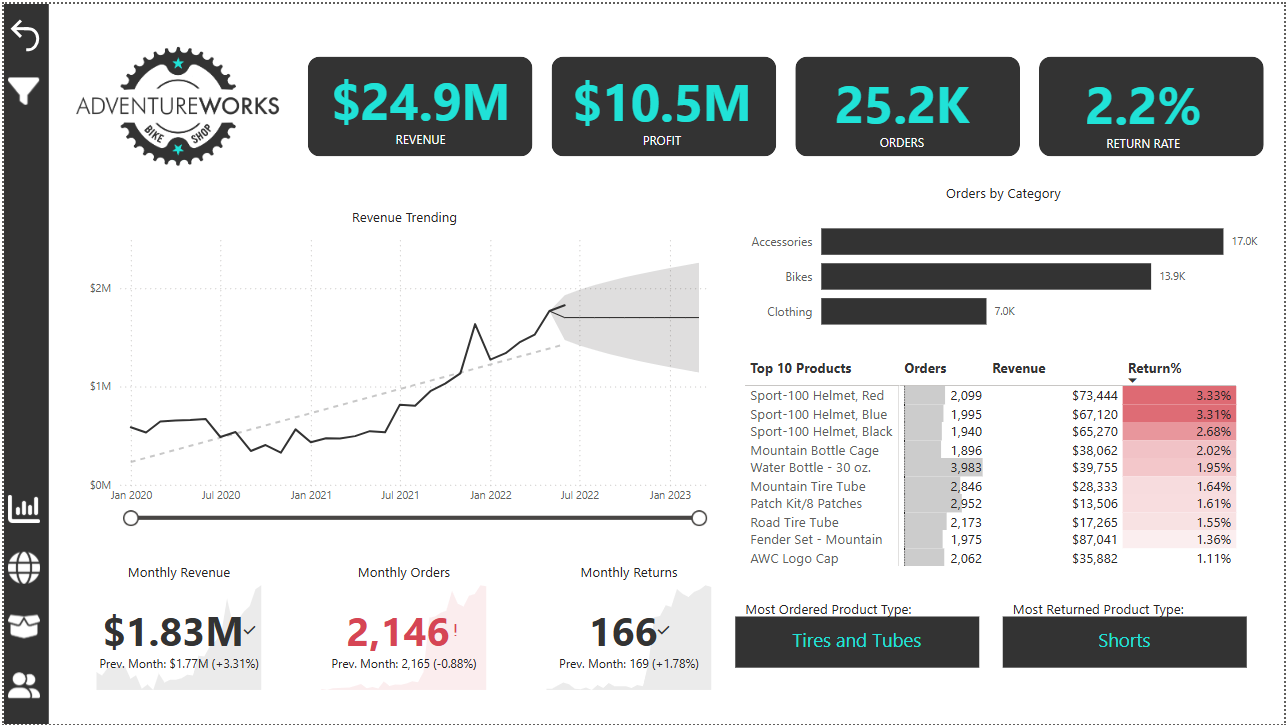

What the dashboard file says about the page in this screenshot:
{"tool":"powerbi","page":{"name":"Exec Dashboard","canvas":[1280,720],"ordinal":0},"visuals":[{"type":"image","title":"AW Logo","box":[45,28.8,258.8,147.5],"z":0},{"type":"card","fields":{"Values":["Measure Table.Total Revenue"]},"box":[296.2,30,241.2,146.2],"z":0,"group":"g2"},{"type":"group","id":"g1","title":"KPI Backgrounds","box":[303.7,52.5,956.2,100],"z":0,"group":"g3"},{"type":"shape","box":[303.7,52.5,225,100],"z":0,"group":"g1"},{"type":"actionButton","box":[0,485,45,40],"z":0,"group":"g4"},{"type":"shape","title":"Left Nav Background","box":[0,0,45,720],"z":1000},{"type":"group","id":"g2","title":"KPI Values","box":[296.2,30,963.8,150],"z":1000,"group":"g3"},{"type":"card","fields":{"Values":["Measure Table.Total Orders"]},"box":[777.9,32.5,241.2,146.2],"z":1000,"group":"g2"},{"type":"shape","box":[547.5,52.5,225,100],"z":1000,"group":"g1"},{"type":"actionButton","box":[0,543.8,45,40],"z":1000,"group":"g4"},{"type":"group","id":"g3","title":"KPIs","box":[296.2,30,963.8,150],"z":2000},{"type":"card","fields":{"Values":["Measure Table.Total Profit"]},"box":[537,31.2,241.2,146.2],"z":2000,"group":"g2"},{"type":"shape","box":[791.2,52.5,225,100],"z":2000,"group":"g1"},{"type":"actionButton","box":[0,602.5,45,40],"z":2000,"group":"g4"},{"type":"card","fields":{"Values":["Measure Table.Return Rate"]},"box":[1018.7,33.8,241.2,146.2],"z":3000,"group":"g2"},{"type":"shape","box":[1034.9,52.5,225,100],"z":3000,"group":"g1"},{"type":"lineChart","title":"Revenue Trending","fields":{"Y":["Measure Table.Total Revenue"],"Category":["Calendar Lookup.Year","Calendar Lookup.Start of Quarter","Calendar Lookup.Start of Month"]},"box":[80,203.8,641.2,321.2],"z":3000},{"type":"actionButton","box":[0,661.2,45,40],"z":3000,"group":"g4"},{"type":"kpi","title":"Monthly Revenue","fields":{"Indicator":["Measure Table.Total Revenue"],"TrendLine":["Calendar Lookup.Start of Month"],"Goal":["Measure Table.Previous Month Revenue"]},"box":[87.5,558.8,175,132.5],"z":4000},{"type":"kpi","title":"Monthly Orders","fields":{"TrendLine":["Calendar Lookup.Start of Month"],"Indicator":["Measure Table.Total Orders"],"Goal":["Measure Table.Previous Month Orders"]},"box":[312.5,558.8,175,132.5],"z":5000},{"type":"kpi","title":"Monthly Returns","fields":{"TrendLine":["Calendar Lookup.Start of Month"],"Indicator":["Measure Table.Total Return"],"Goal":["Measure Table.Previous Month Returns"]},"box":[537.5,558.8,175,132.5],"z":6000},{"type":"clusteredBarChart","title":"Orders by Category","fields":{"Category":["Product Categories Lookup.CategoryName"],"Y":["Measure Table.Total Orders"]},"box":[737.5,180,523.8,161.2],"z":7000},{"type":"pivotTable","fields":{"Rows":["Product Lookup.ProductName"],"Values":["Measure Table.Total Orders","Measure Table.Total Revenue","Measure Table.Return Rate"]},"box":[736.2,350,523.8,226.2],"z":8000},{"type":"card","fields":{"Values":["Min(Product Subcategories Lookup.SubcategoryName)"]},"box":[731.7,612.9,243.8,51.2],"z":9000},{"type":"textbox","box":[736.2,591.2,243.8,33.8],"z":10000},{"type":"card","fields":{"Values":["Min(Product Subcategories Lookup.SubcategoryName)"]},"box":[999.2,612.9,243.8,51.2],"z":11000},{"type":"textbox","box":[1003.8,591.2,243.8,33.8],"z":12000},{"type":"actionButton","box":[0,10,45,42.5],"z":13000},{"type":"group","id":"g4","title":"Navigation Buttons","box":[0,485,45,216.2],"z":14000},{"type":"actionButton","box":[0,67.8,45.2,39.6],"z":15000}]}

Visuals, with their boxes on the page's 1280x720 design canvas (x1, y1, x2, y2). These are canvas units, not pixel positions in the 1287x727 screenshot, which may show the page scaled, cropped or inside an application window:
"AW Logo" image: 45, 29, 304, 176
card - Measure Table.Total Revenue: 296, 30, 537, 176
"KPI Backgrounds" group: 304, 52, 1260, 152
shape: 304, 52, 529, 152
actionButton: 0, 485, 45, 525
"Left Nav Background" shape: 0, 0, 45, 720
"KPI Values" group: 296, 30, 1260, 180
card - Measure Table.Total Orders: 778, 32, 1019, 179
shape: 548, 52, 772, 152
actionButton: 0, 544, 45, 584
"KPIs" group: 296, 30, 1260, 180
card - Measure Table.Total Profit: 537, 31, 778, 177
shape: 791, 52, 1016, 152
actionButton: 0, 602, 45, 642
card - Measure Table.Return Rate: 1019, 34, 1260, 180
shape: 1035, 52, 1260, 152
"Revenue Trending" lineChart: 80, 204, 721, 525
actionButton: 0, 661, 45, 701
"Monthly Revenue" kpi: 88, 559, 262, 691
"Monthly Orders" kpi: 312, 559, 488, 691
"Monthly Returns" kpi: 538, 559, 712, 691
"Orders by Category" clusteredBarChart: 738, 180, 1261, 341
pivotTable - Product Lookup.ProductName x Measure Table.Total Orders: 736, 350, 1260, 576
card - Min(Product Subcategories Lookup.SubcategoryName): 732, 613, 976, 664
textbox: 736, 591, 980, 625
card - Min(Product Subcategories Lookup.SubcategoryName): 999, 613, 1243, 664
textbox: 1004, 591, 1248, 625
actionButton: 0, 10, 45, 52
"Navigation Buttons" group: 0, 485, 45, 701
actionButton: 0, 68, 45, 107
